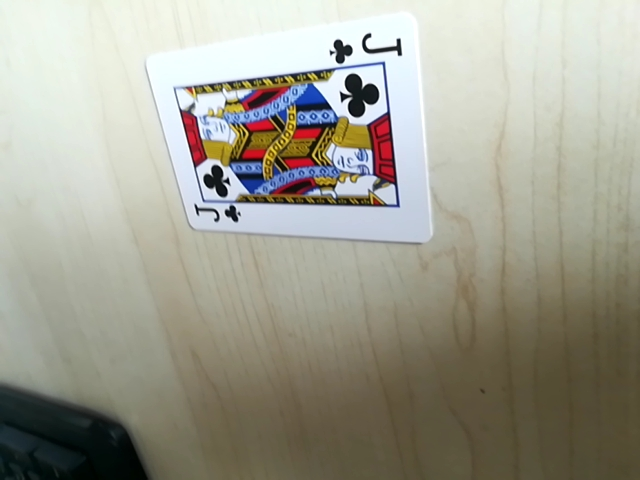mh j: (327, 27, 407, 64), (187, 197, 240, 229)
